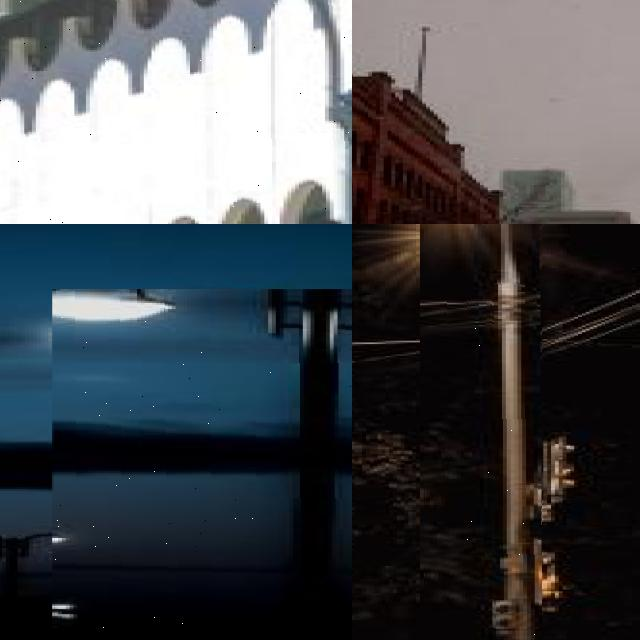street light: (52, 289, 352, 640), (0, 0, 352, 224), (423, 224, 541, 640), (0, 533, 102, 640)
